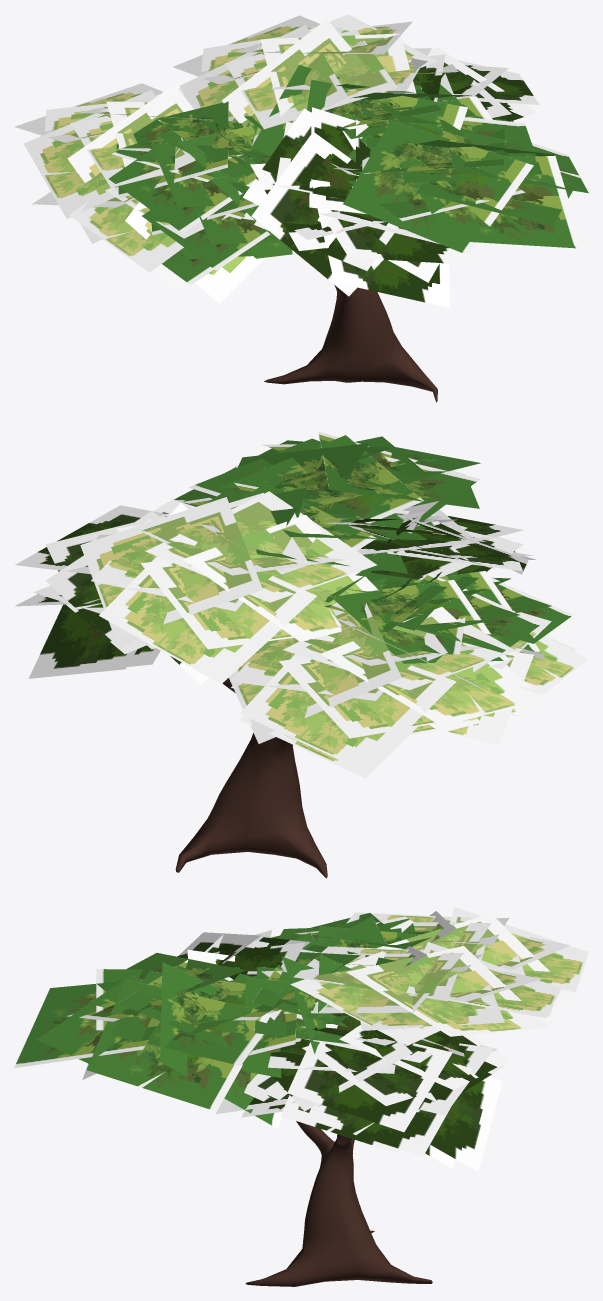
The model's file is Tree_1.fbx.
The picture shows the model from 3 angles, top to bottom: view 1: azimuth 30°, elevation 25°; view 2: azimuth 150°, elevation 25°; view 3: azimuth 270°, elevation 25°; orthographic projection. The views are drawn at different scales.
Visible parts, largest first — view 1: tree branch green 1, TreeBody; view 2: tree branch green 1, TreeBody; view 3: tree branch green 1, TreeBody.
Boxes of the visible parts, bbox=[...] form: tree branch green 1: bbox=[14, 14, 588, 307]; TreeBody: bbox=[264, 285, 437, 402]; tree branch green 1: bbox=[15, 431, 588, 778]; TreeBody: bbox=[175, 678, 327, 878]; tree branch green 1: bbox=[14, 907, 588, 1171]; TreeBody: bbox=[245, 1121, 432, 1286].
Bounding box in the file's own units: 17.86 × 11.72 × 19.06.
